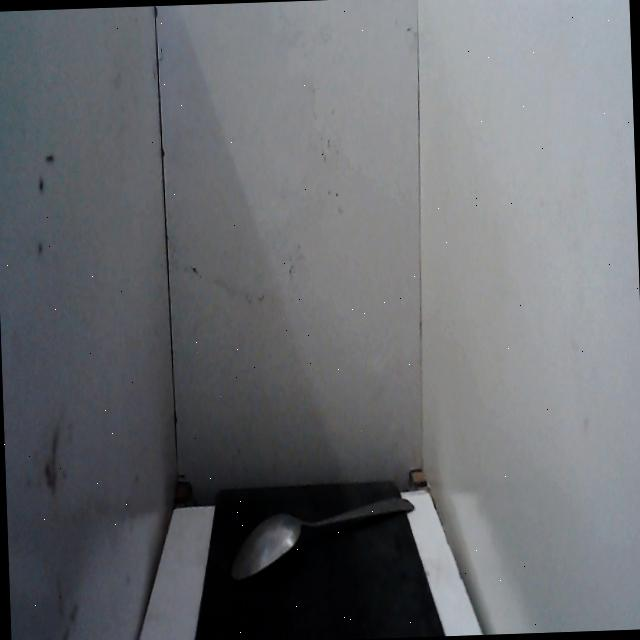metal: (222, 482, 419, 594)
